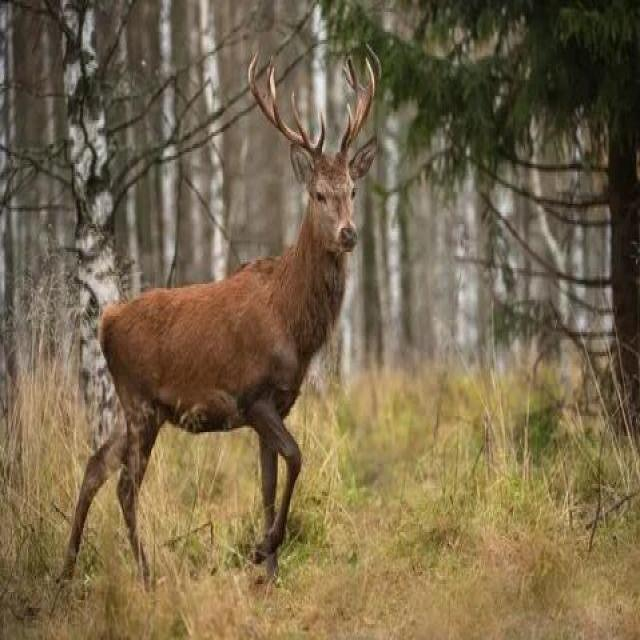deer: (84, 112, 420, 572)
